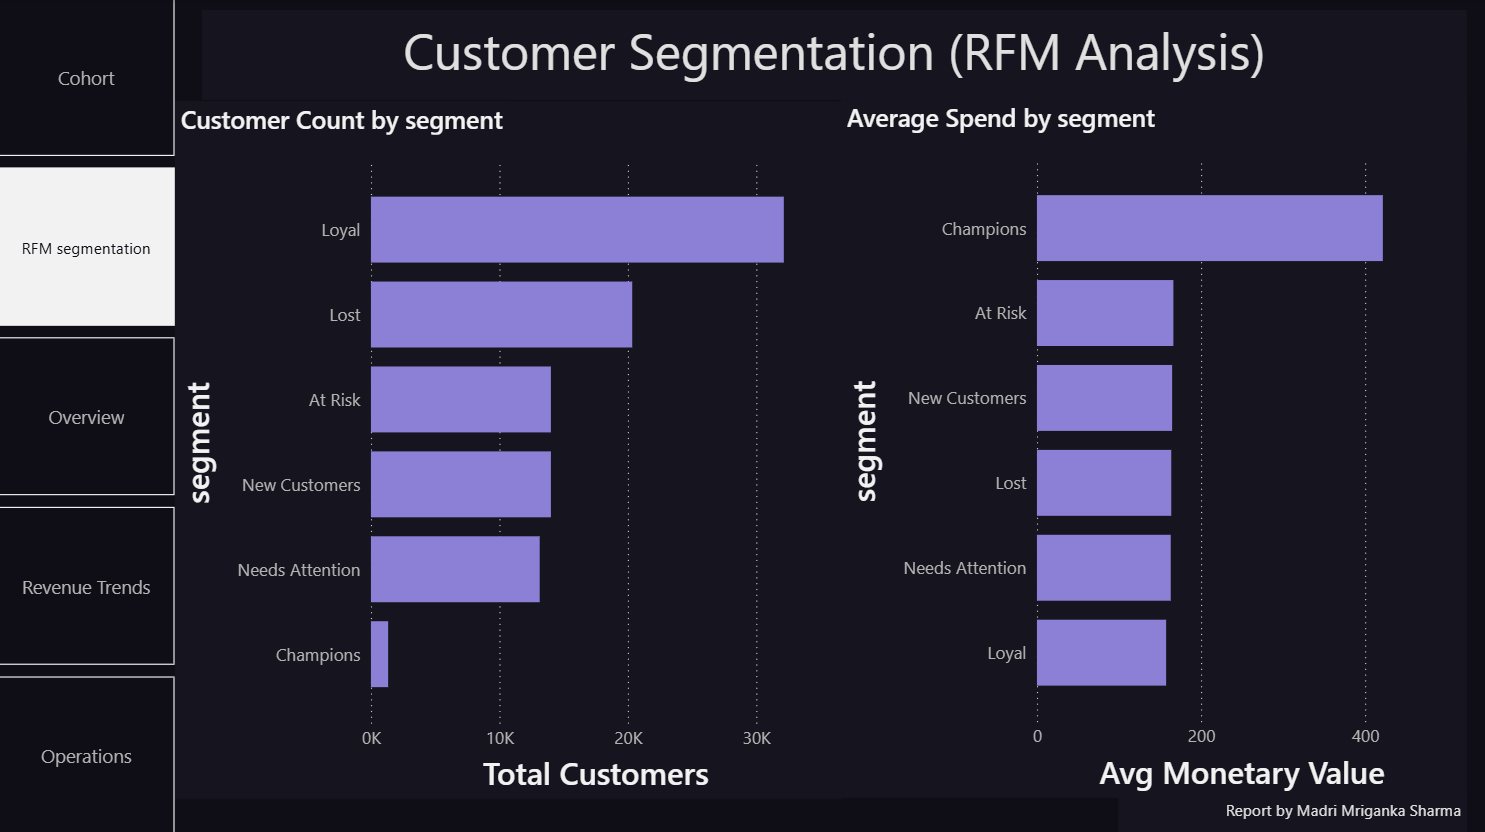

This screenshot's page, from the dashboard's own definition file:
{"tool":"powerbi","page":{"name":"RFM segmentation","canvas":[1280,720],"ordinal":1},"visuals":[{"type":"clusteredBarChart","title":"Customer Count by segment","fields":{"Category":["rfm_segments.segment"],"Y":["rfm_segments.Total Customers"]},"box":[152.4,89.1,573.3,600.4],"z":0},{"type":"clusteredBarChart","title":"Average Spend  by segment","fields":{"Category":["rfm_segments.segment"],"Y":["rfm_segments.Avg Monetary Value"]},"box":[725.7,87.8,538.4,600.4],"z":1000},{"type":"pageNavigator","box":[0,0,152.4,720.5],"z":1001},{"type":"textbox","box":[175.6,10.3,1088.5,77.5],"z":1002},{"type":"textbox","box":[964.7,684,300.1,36],"z":1003}]}

Visuals, with their boxes on the page's 1280x720 design canvas (x1, y1, x2, y2). These are canvas units, not pixel positions in the 1485x832 screenshot, which may show the page scaled, cropped or inside an application window:
"Customer Count by segment" clusteredBarChart: [152, 89, 726, 690]
"Average Spend  by segment" clusteredBarChart: [726, 88, 1264, 688]
pageNavigator: [0, 0, 152, 720]
textbox: [176, 10, 1264, 88]
textbox: [965, 684, 1265, 720]
